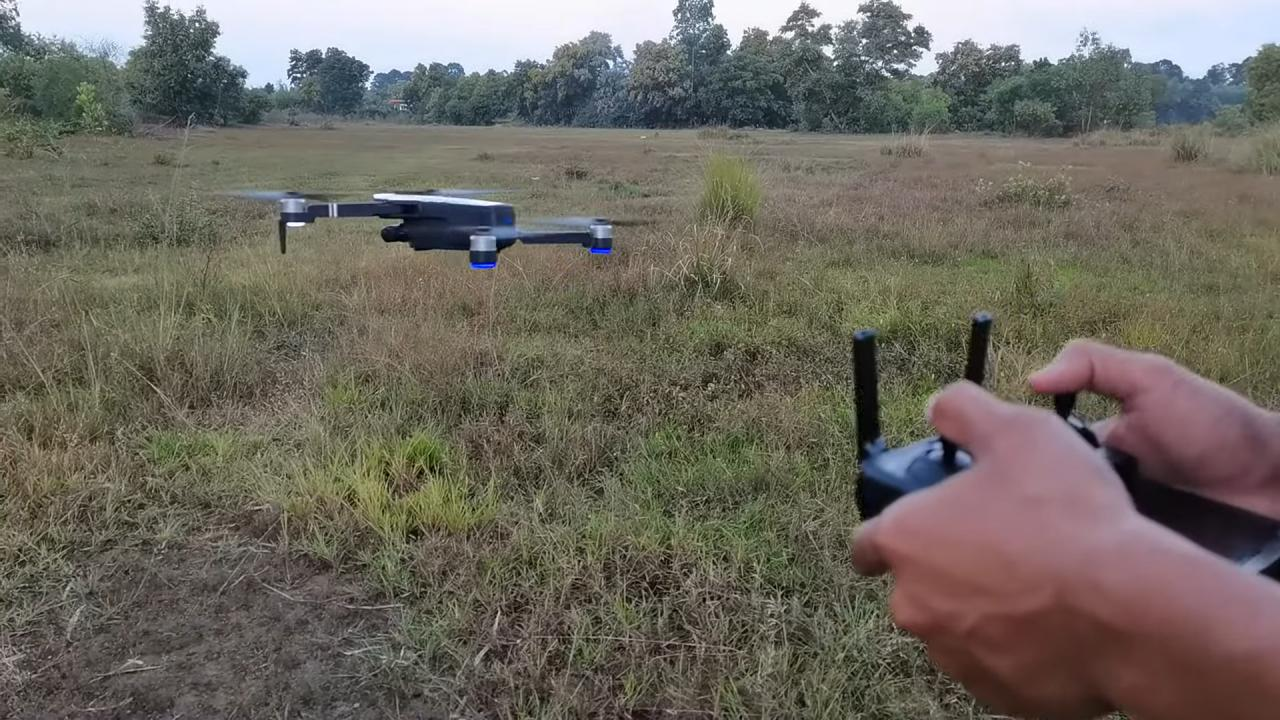Drone: (202, 152, 688, 313)
